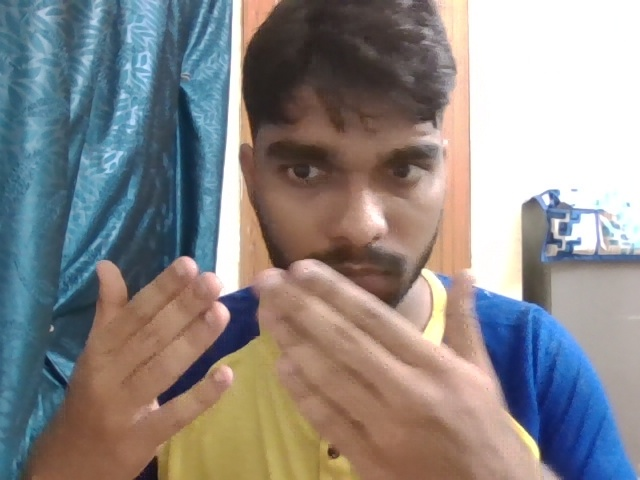Thank You: (73, 243, 523, 480)
